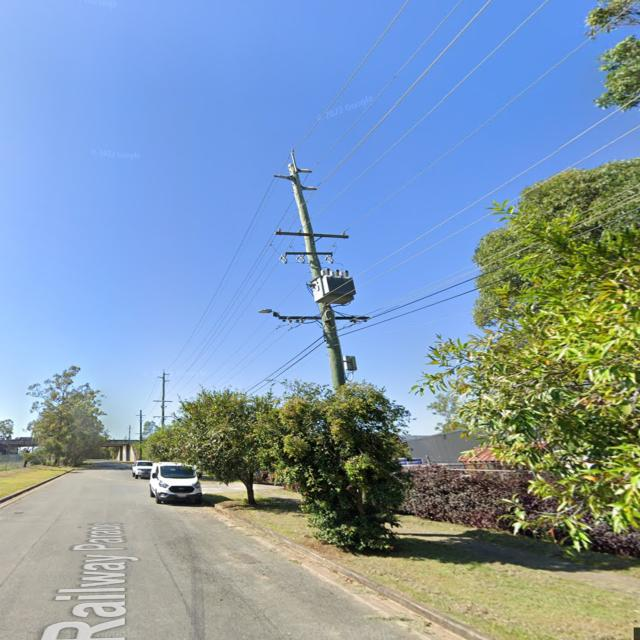HV-transmission: (274, 150, 349, 264)
crossarm: (274, 152, 316, 192), (276, 229, 350, 240), (279, 314, 369, 322), (282, 250, 334, 256)
streetlight: (257, 307, 284, 320)
timber-pole: (286, 164, 347, 391)
transformer: (313, 271, 357, 307)
